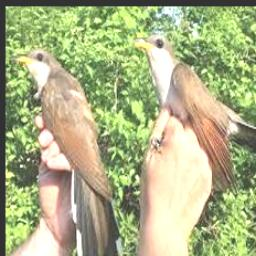Cuckoo: (17, 48, 120, 256), (135, 34, 256, 195)
